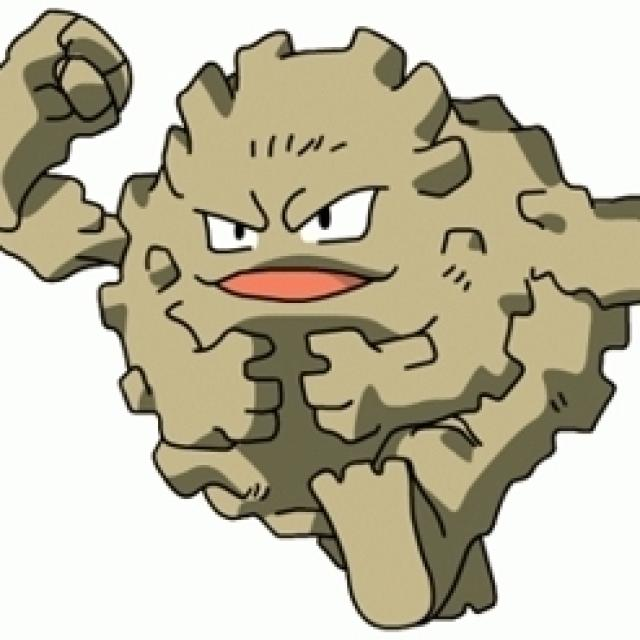Graveler: (0, 3, 640, 630)
